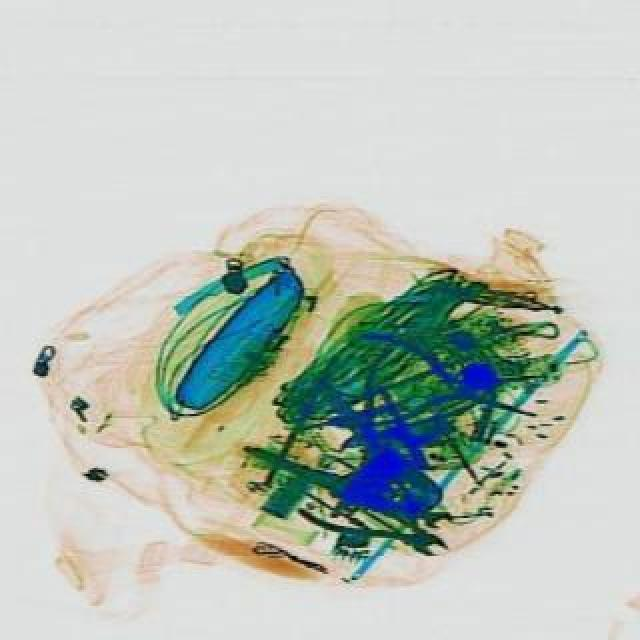scissors: (384, 484, 448, 530)
wrench: (242, 368, 460, 548), (292, 432, 472, 594), (344, 330, 548, 442)
